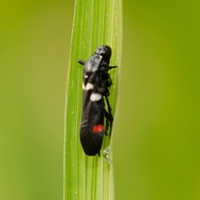insect: (78, 45, 116, 155)
